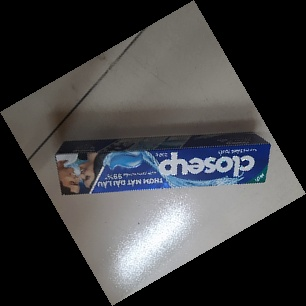CloseUp Tuyet: (55, 131, 271, 197)
